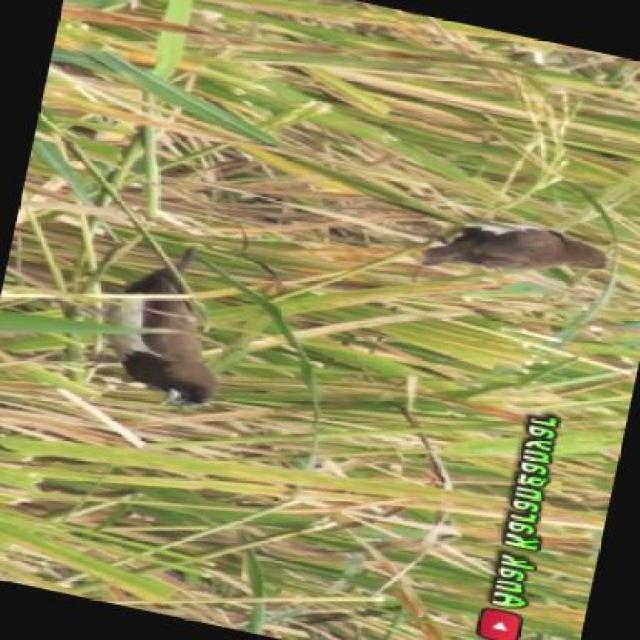Bird: (100, 240, 240, 433), (425, 212, 613, 293)
